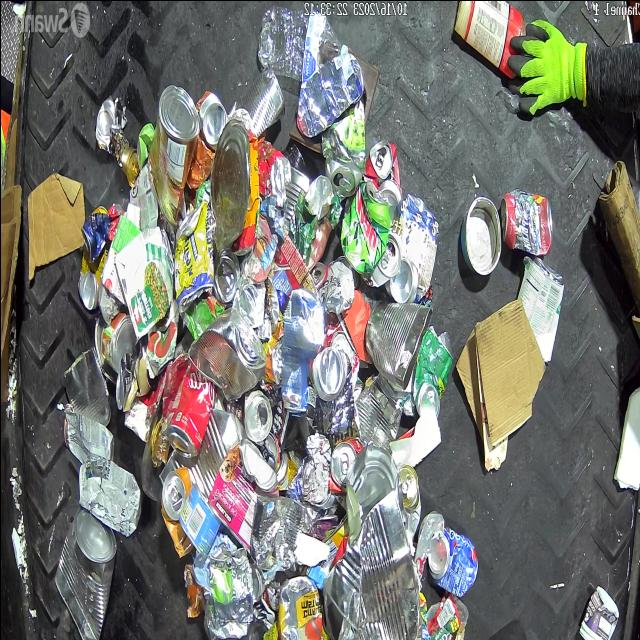can: (321, 486, 422, 640), (53, 502, 116, 640), (206, 438, 278, 554), (146, 84, 200, 225), (186, 310, 266, 402), (383, 192, 439, 304), (363, 298, 431, 390), (516, 255, 564, 364), (339, 178, 390, 274), (164, 367, 216, 458), (248, 492, 304, 572), (172, 203, 212, 313), (353, 371, 403, 454), (185, 90, 227, 188), (61, 348, 111, 424), (426, 524, 478, 596), (206, 544, 252, 622), (499, 188, 552, 255), (413, 325, 452, 416), (459, 196, 502, 276), (77, 205, 110, 304), (178, 481, 220, 558), (362, 137, 402, 215), (63, 402, 114, 463), (322, 124, 364, 198), (160, 464, 193, 556), (248, 66, 284, 136), (100, 312, 136, 374), (361, 231, 398, 287), (310, 344, 346, 400), (94, 94, 126, 154), (396, 462, 420, 540), (328, 436, 362, 488), (114, 342, 140, 409), (242, 379, 270, 441), (76, 263, 98, 308), (257, 428, 279, 472), (115, 144, 136, 188)
plastic_bottle: (256, 8, 348, 81)
